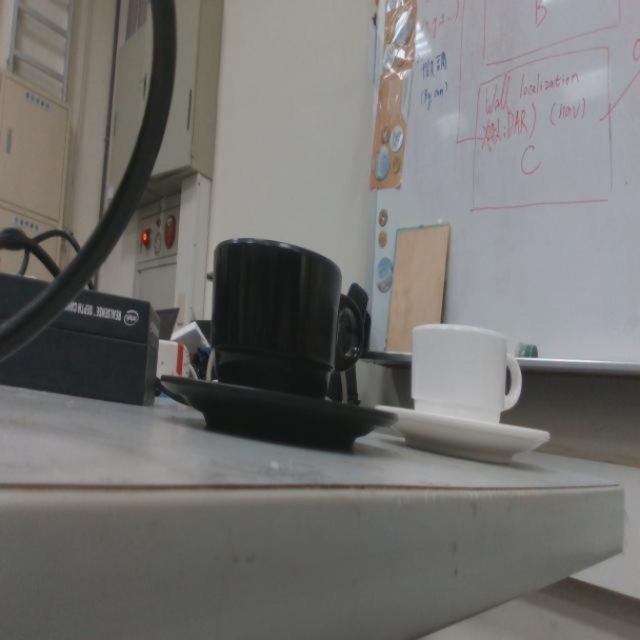black: (156, 233, 402, 459)
white: (373, 318, 553, 467)
